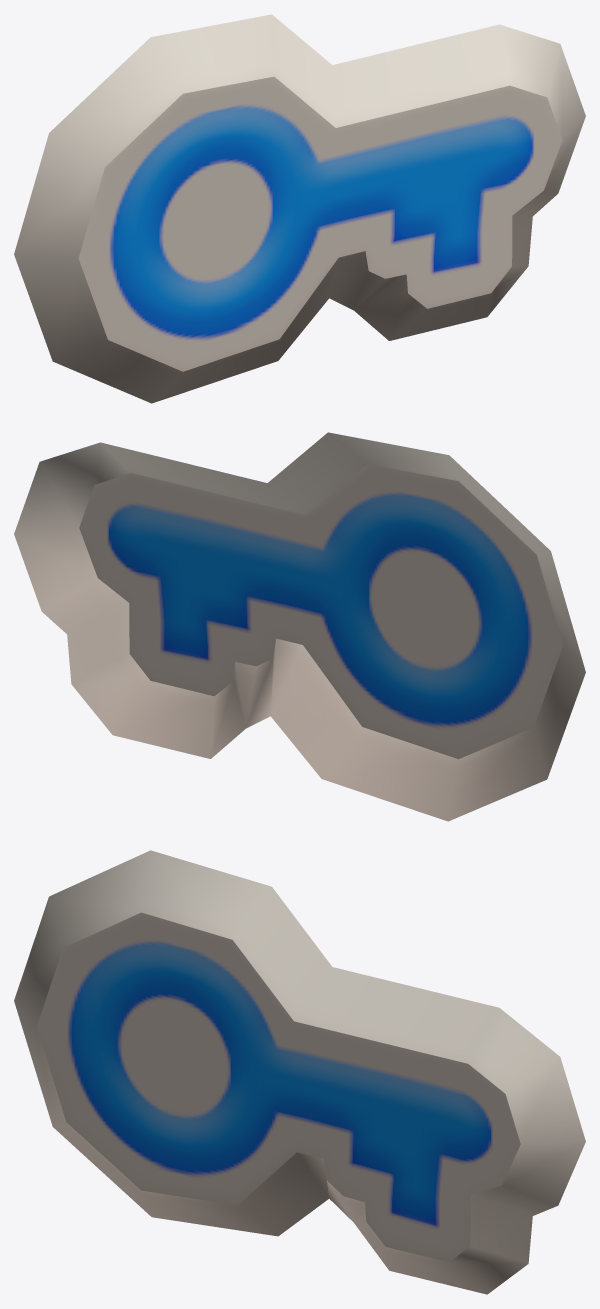
File: key_sticker_01.fbx
The picture shows the model from 3 angles, top to bottom: view 1: azimuth 30°, elevation 25°; view 2: azimuth 150°, elevation 25°; view 3: azimuth 330°, elevation 25°; orthographic projection.
Visible parts, largest first — view 1: key_sticker_01; view 2: key_sticker_01; view 3: key_sticker_01.
Boxes of the visible parts, <box> form: key_sticker_01: <box>14,14,585,403</box>; key_sticker_01: <box>14,432,585,821</box>; key_sticker_01: <box>14,850,585,1294</box>.
Size of the model in its own units: 25.72 by 15.75 by 1.62.
